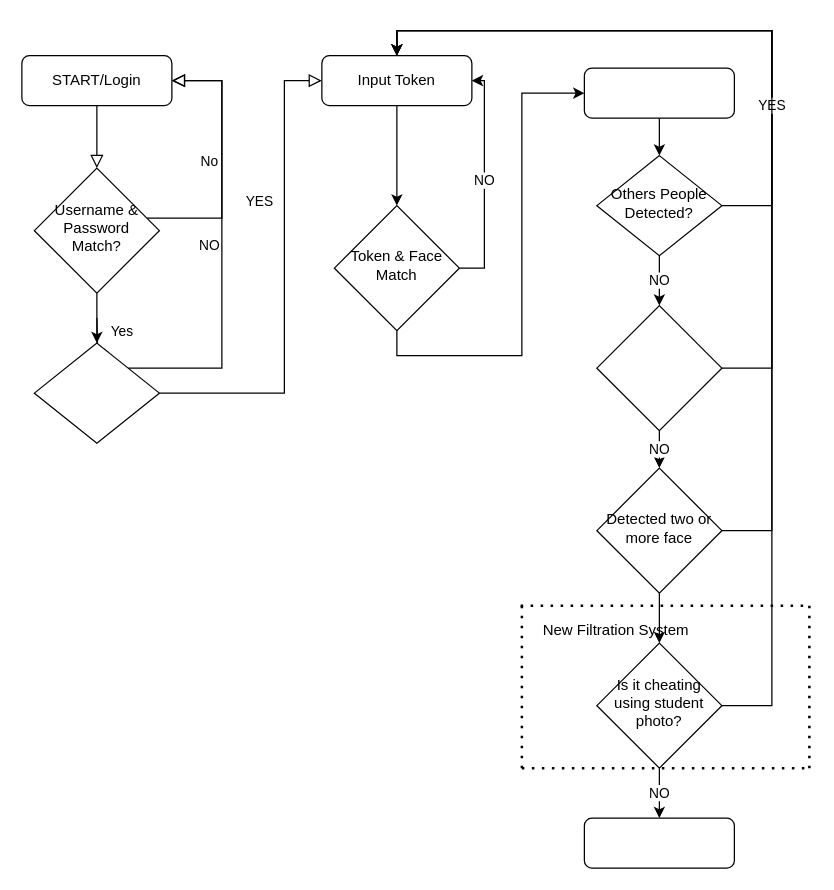
The diagram is 834 pixels wide and 890 high, and some of its shapes have lost their labels. Here are the shapes that lost their labels. From the top down, the box of each, then its label:
(583, 67, 734, 118): Show Exam
(596, 304, 722, 431): Student's Face not detected
(33, 342, 159, 443): Face Match?
(583, 817, 734, 868): Continue the exam
